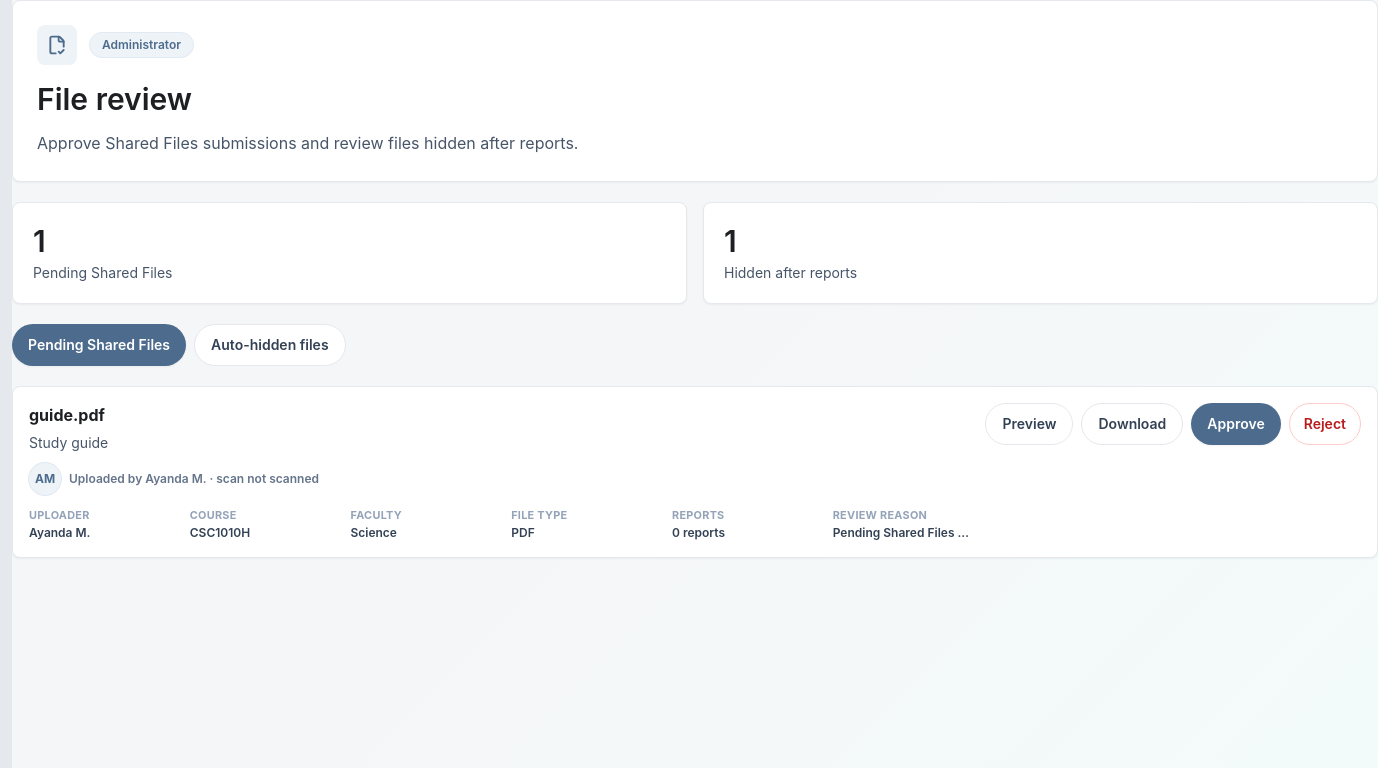
Test: AdminFilesPage › shows why auto-hidden files need review
This screenshot has width=1378, height=768.
Click the button "Auto-hidden files". click: click(270, 345)
box: [194,324,346,366]
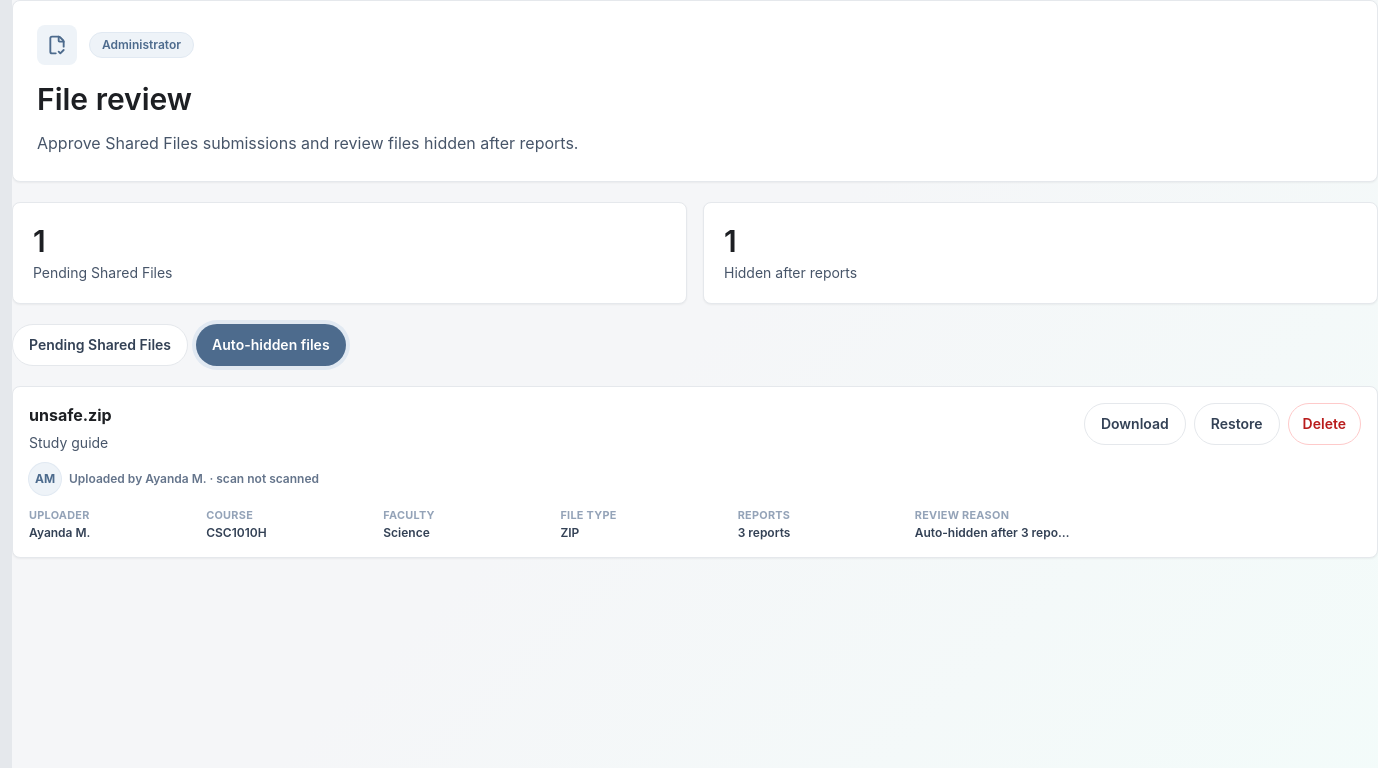
Expected: the heading "unsafe.zip" is shown, [29,405,112,425]
Expected: the text "ZIP" is shown, [560,525,579,540]
Expected: the text "Auto-hidden after 3 reports" is shown, [915,525,1072,541]
